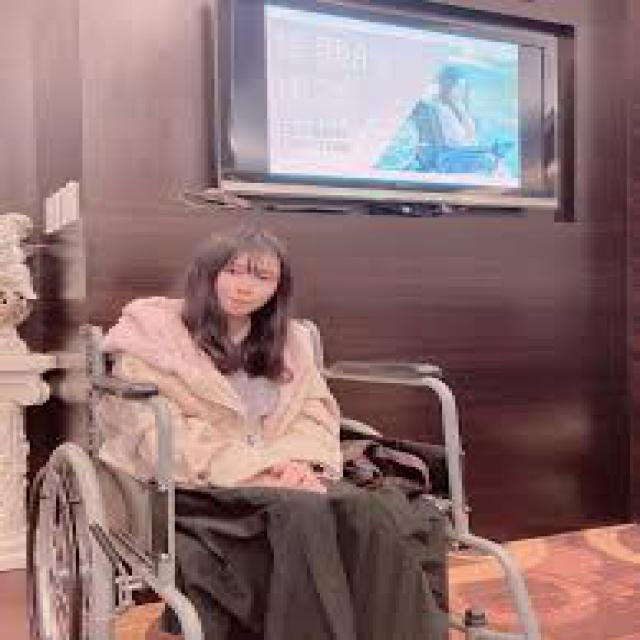wheelchairs: (20, 308, 518, 638)
